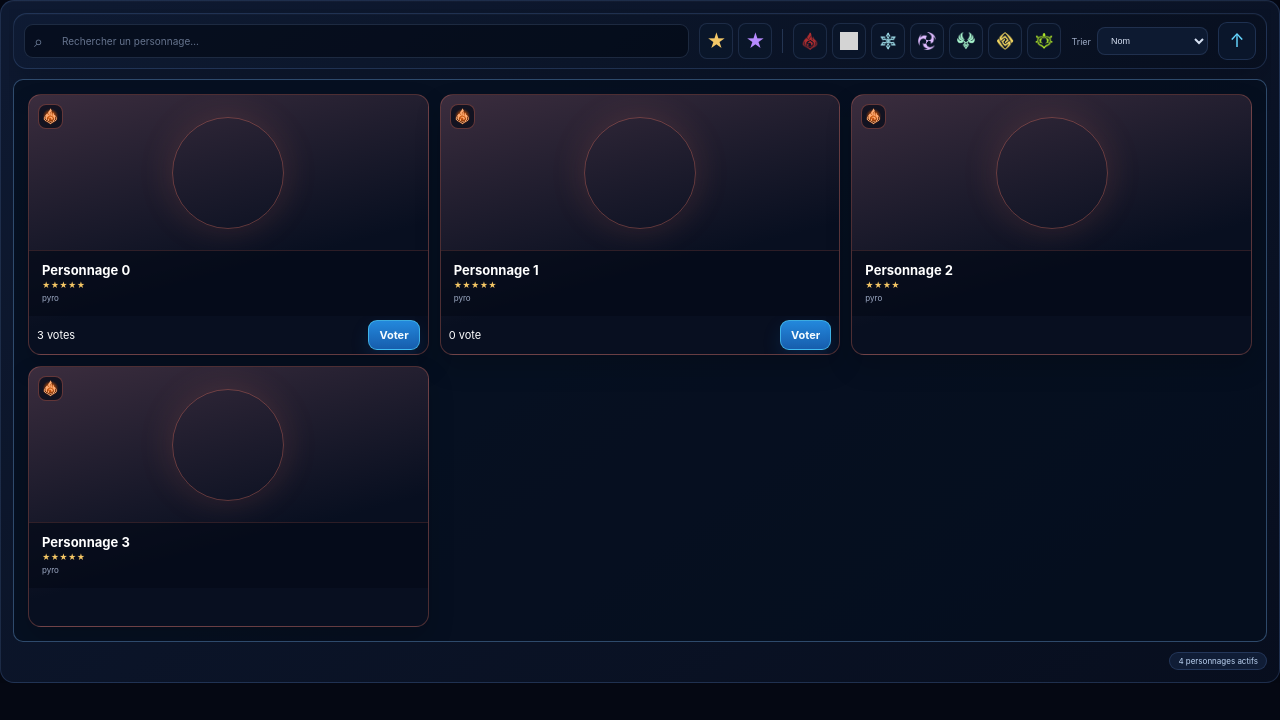
Test: Catalogue community votes › shows only eligible counters/actions and immediately replaces all CTAs after voting
Check: the number of elements with class "catalog-character-vote" is 2, box x1=29 y1=316 x2=428 y2=354; x1=441 y1=316 x2=839 y2=354
Click the button "Voter" below "Personnage 0": (394, 335) x1=368 y1=320 x2=420 y2=350
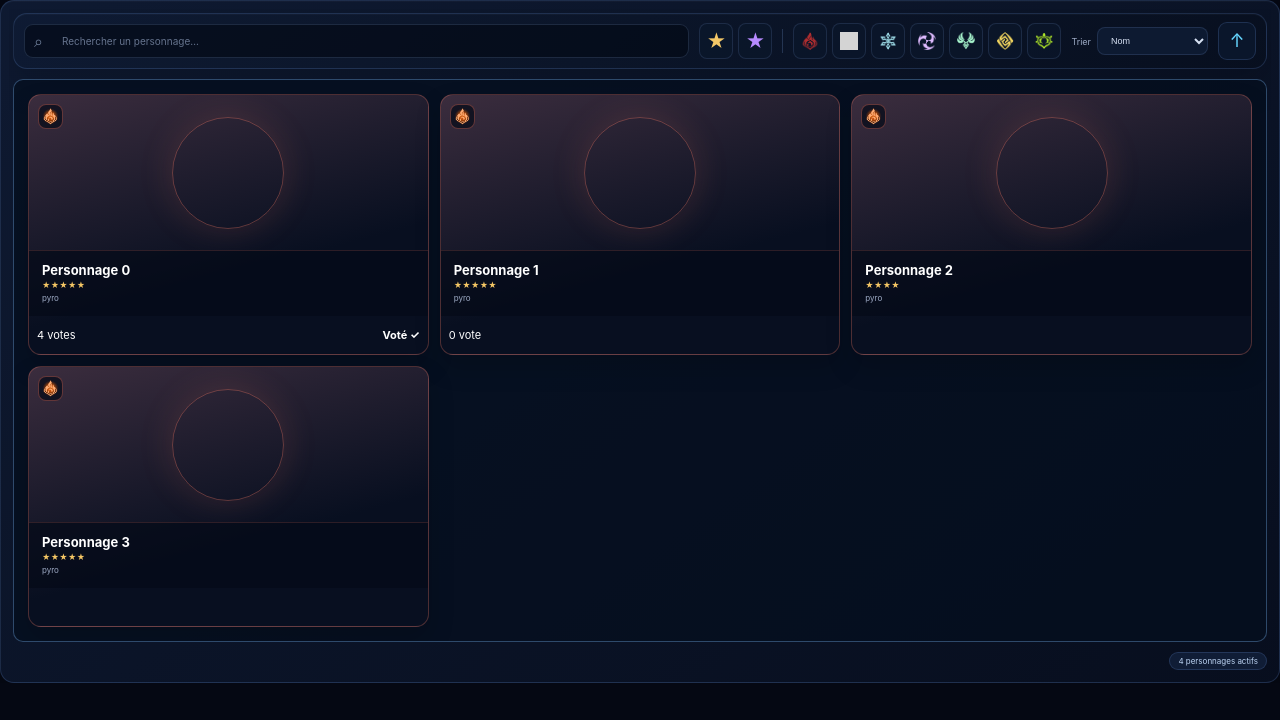
Check: the number of elements with class "character-card" is 4, box x1=28 y1=94 x2=429 y2=355; x1=440 y1=94 x2=840 y2=355; x1=851 y1=94 x2=1252 y2=355; x1=28 y1=366 x2=429 y2=627
Check: the text "4 votes" is shown, box x1=37 y1=328 x2=76 y2=342
Check: the text "Voté ✓" is shown, box x1=383 y1=328 x2=420 y2=342
